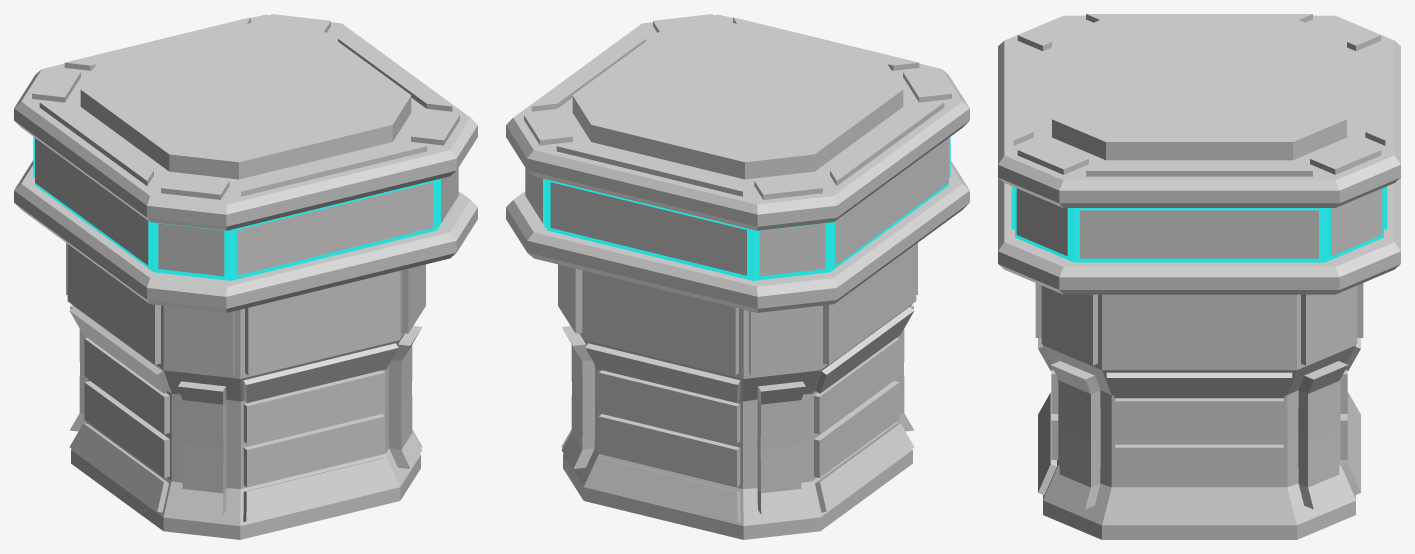
Rendered from small-tower.glb.
3 renders of one model, left to right at view 1: azimuth 30°, elevation 25°; view 2: azimuth 150°, elevation 25°; view 3: azimuth 270°, elevation 25°, orthographic. The views are drawn at different scales.
Visible parts, largest first — view 1: Cube.002; view 2: Cube.002; view 3: Cube.002.
Boxes of the visible parts, bbox=[...] form: Cube.002: bbox=[14, 14, 477, 539]; Cube.002: bbox=[506, 14, 969, 539]; Cube.002: bbox=[998, 14, 1400, 539].
Bounding box in the file's own units: 15.77 × 17.02 × 15.77.
